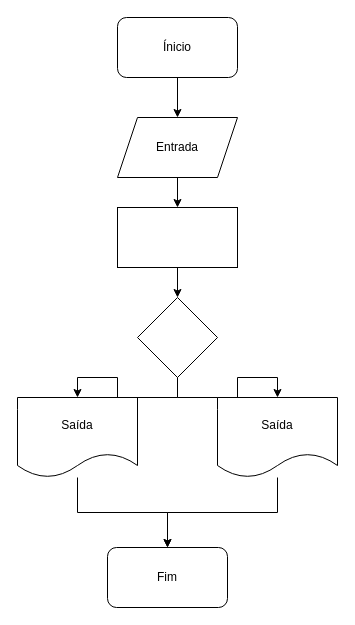
Some shapes in this 355 by 625 pixel diagram are drawn without their labels. The box of each missing label's shape, as (x1, y1, x2, y2) in pixels:
Decisão: (136, 296, 218, 378)
Processamento: (116, 206, 238, 268)
